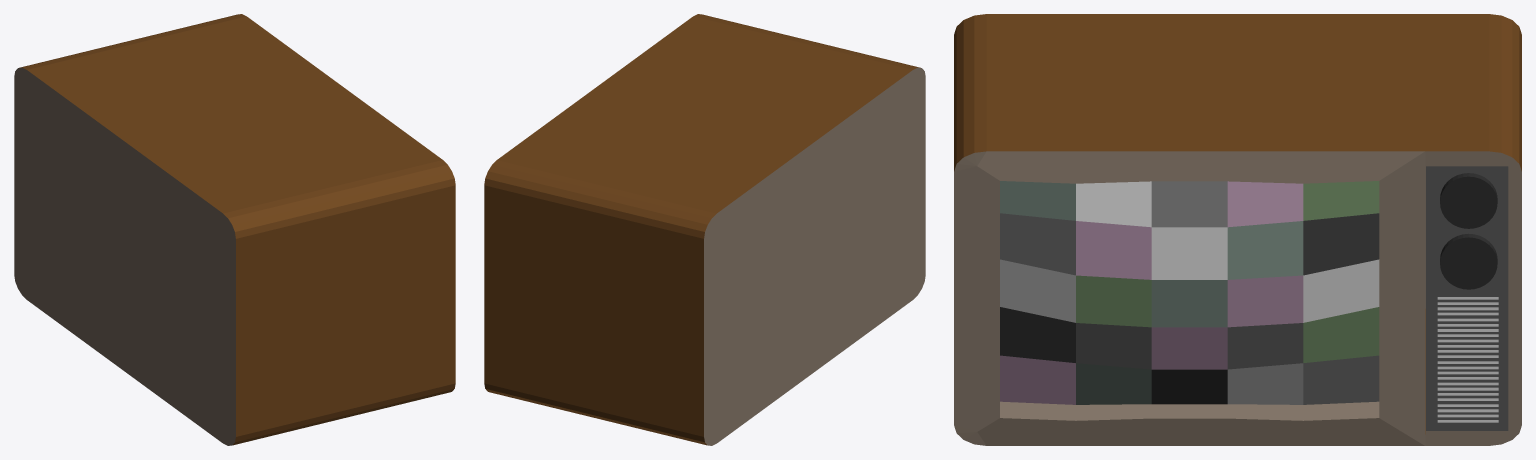
3 renders of one model, left to right at view 1: azimuth 30°, elevation 25°; view 2: azimuth 150°, elevation 25°; view 3: azimuth 270°, elevation 25°, orthographic. The views are drawn at different scales.
Parts seen in each view (by area): view 1: Cube; view 2: Cube; view 3: Cube, Cylinder, Cylinder.001.
Boxes of the visible parts, x1=… form: Cube: x1=14, y1=14, x2=455, y2=445; Cube: x1=484, y1=14, x2=925, y2=445; Cube: x1=954, y1=14, x2=1521, y2=445; Cylinder: x1=1440, y1=173, x2=1497, y2=228; Cylinder.001: x1=1440, y1=233, x2=1497, y2=289.
Size of the model in its own units: 207 by 200 by 349.
